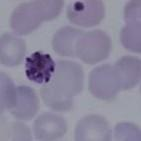Infected: (24, 50, 55, 83)
Uninfected: (73, 28, 112, 63), (9, 2, 42, 35), (88, 65, 120, 99), (74, 113, 112, 141), (10, 86, 40, 120), (40, 83, 75, 112), (56, 61, 85, 95), (0, 31, 28, 66), (67, 0, 104, 26), (111, 55, 141, 87), (32, 112, 67, 139), (52, 25, 80, 57), (28, 0, 64, 22)
